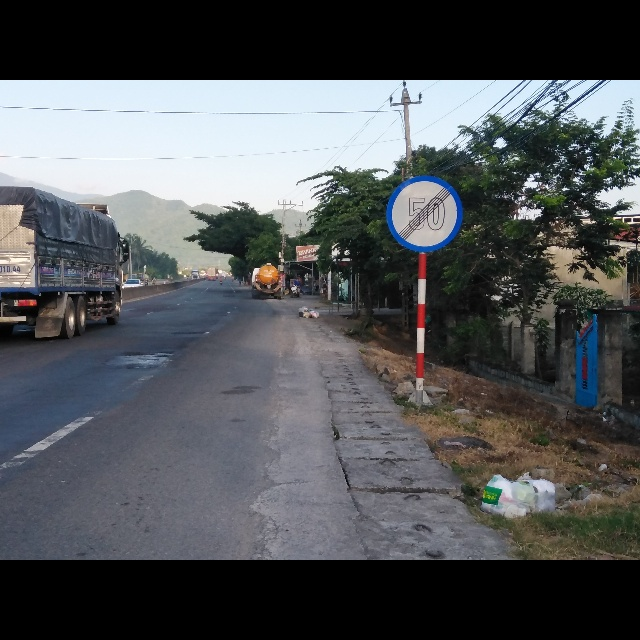Hết hạn chế tốc độ tối đa 50km/h: (385, 175, 464, 254)
